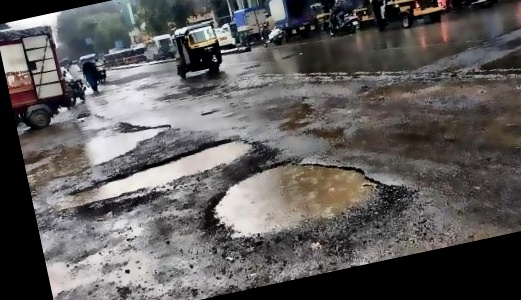pothole: (197, 138, 393, 248), (63, 132, 260, 209), (22, 118, 179, 187)
